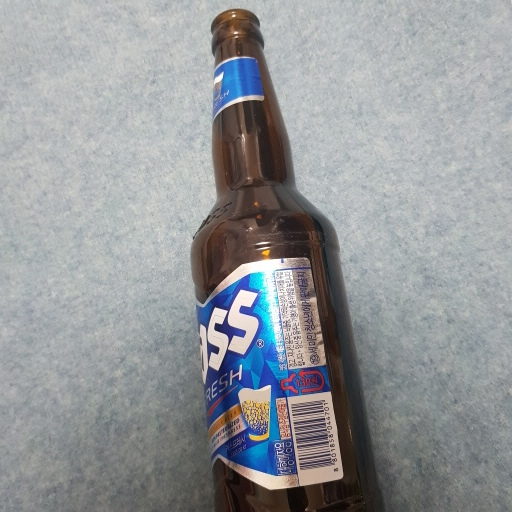Glass_1: (188, 7, 379, 512)
